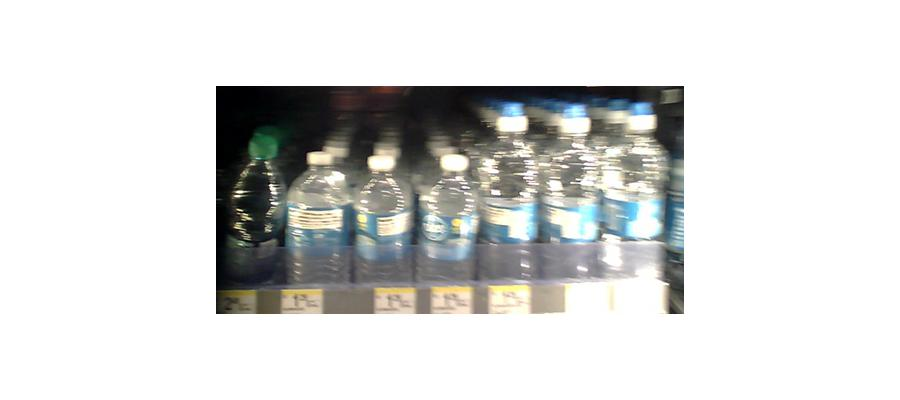bottle: (477, 108, 539, 292), (537, 114, 603, 282), (603, 103, 666, 279), (221, 132, 283, 284), (285, 150, 350, 286), (416, 152, 478, 287), (352, 152, 412, 285)
